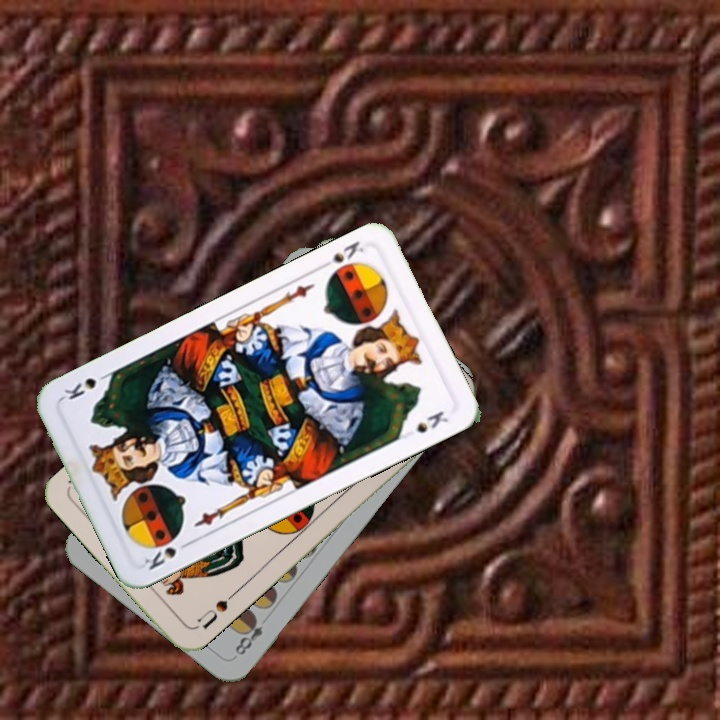E8: (230, 611, 266, 660)
SK: (140, 537, 195, 573), (315, 237, 366, 273)
SU: (193, 587, 239, 632)
